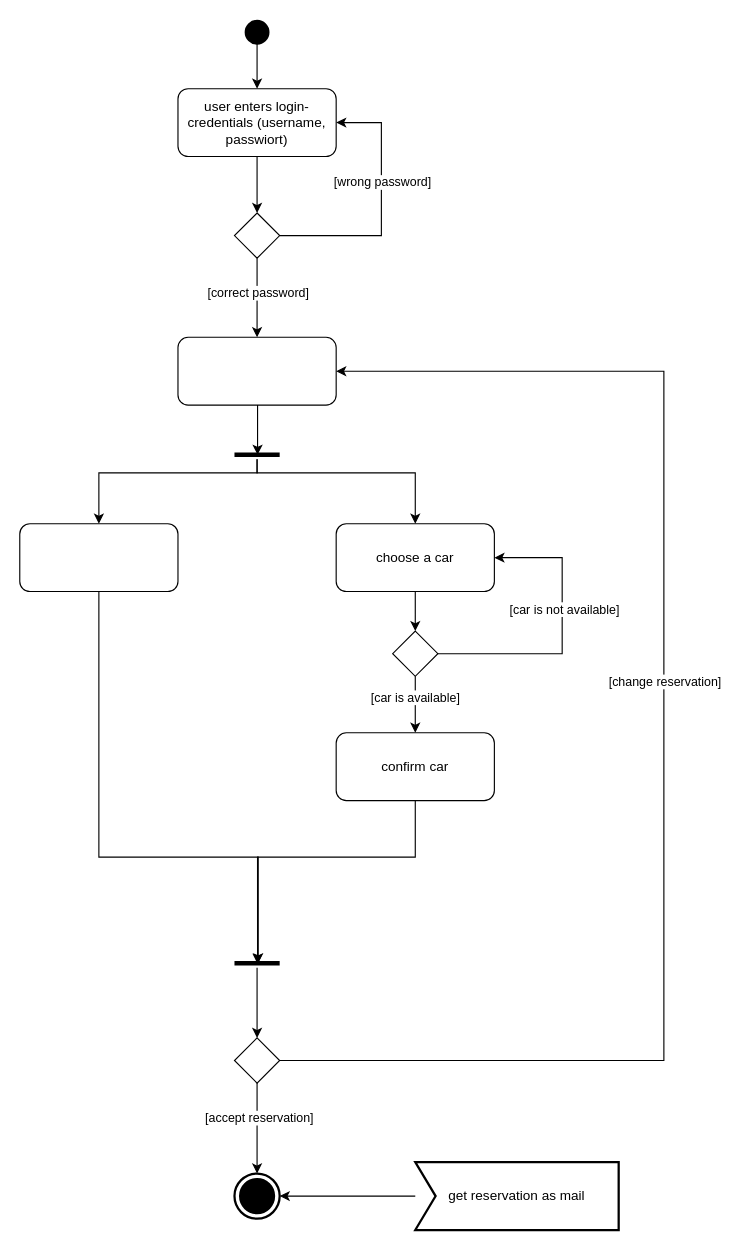
This 740x1250 diagram has some shape labels left out. The shapes that lost their labels are listed below. From the top down, each one's centre as x and y in pixels, then its label:
At (x=256, y=370): "make a reservation".
At (x=98, y=557): "choose start- and endstation".
